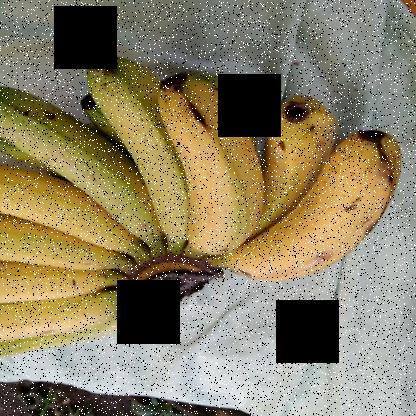freshripe: (0, 162, 134, 256), (0, 212, 107, 276)
ripe: (232, 130, 409, 285), (145, 64, 252, 258), (236, 93, 349, 224)
